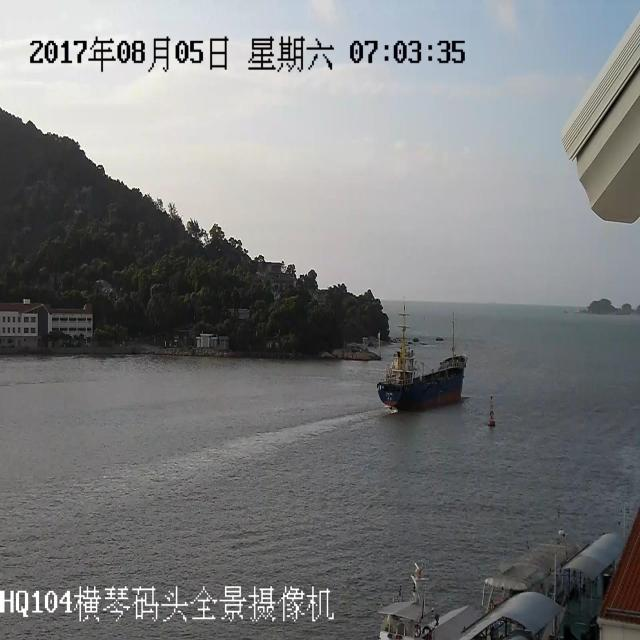buoy: (481, 389, 502, 430)
houseboat: (362, 301, 467, 432)
